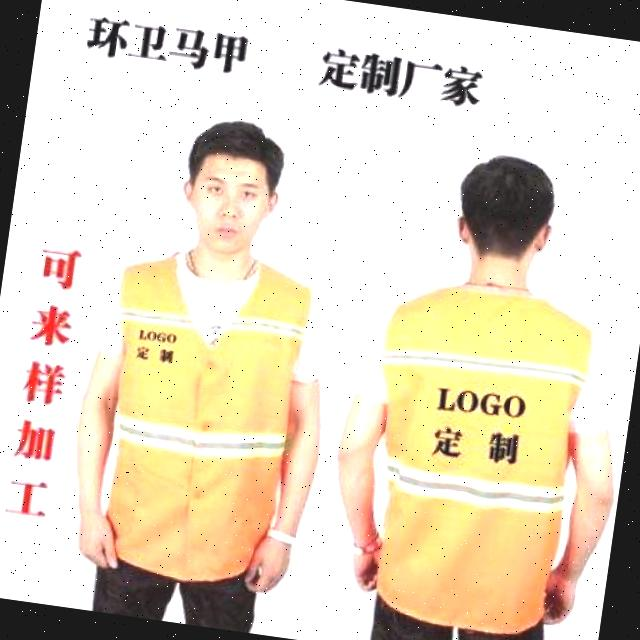vest: (343, 267, 606, 640), (83, 247, 320, 590)
